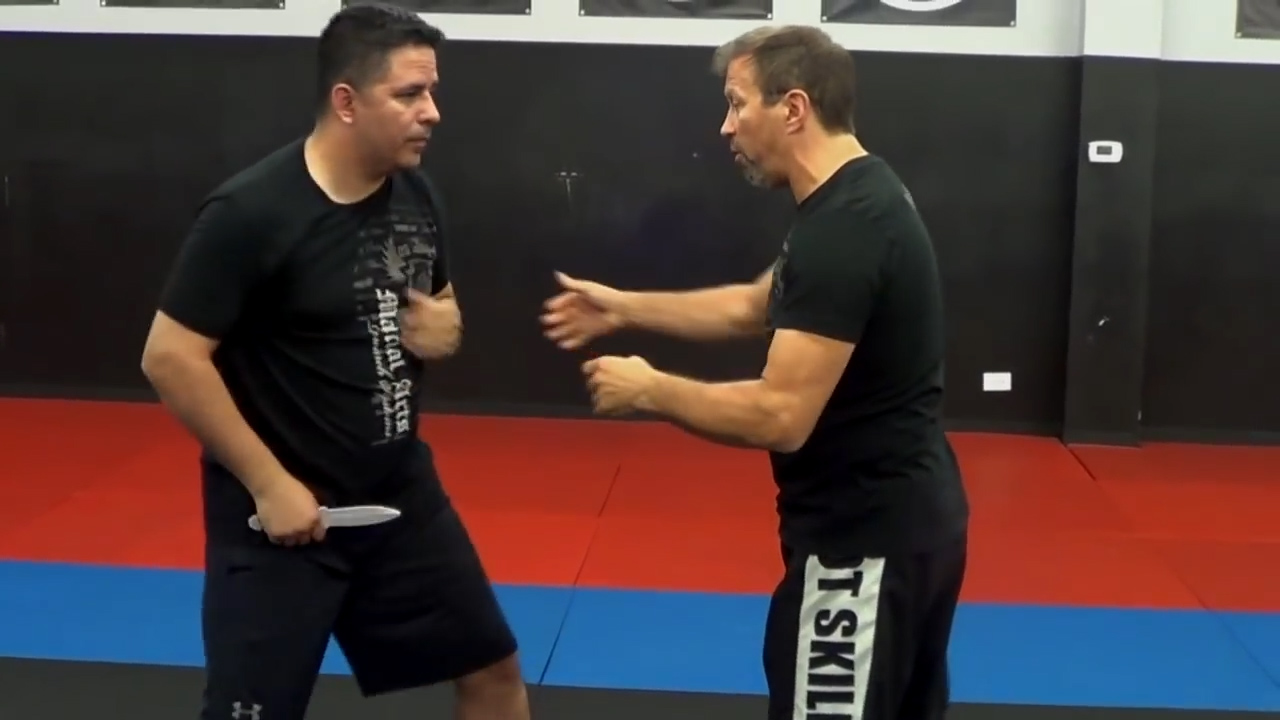knife: (239, 495, 411, 547)
